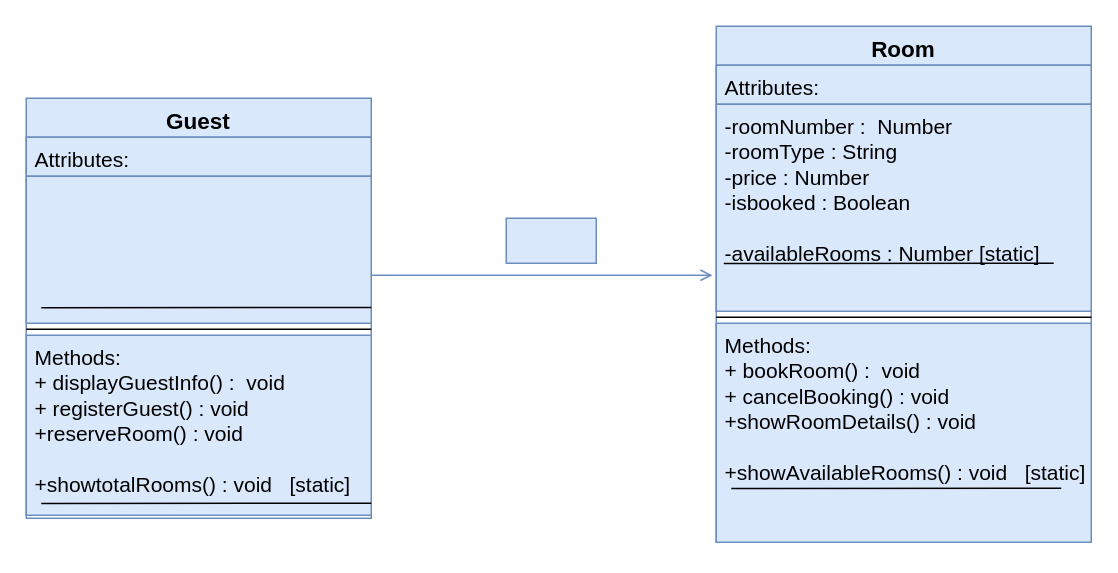
The diagram is 1118 pixels wide and 573 high, and some of its shapes have lost their labels. Each missing label, with the centre of its shape:
-guestId : Number -name : String -totalGuest : Number [static]: point 198,249
books: point 550,240
